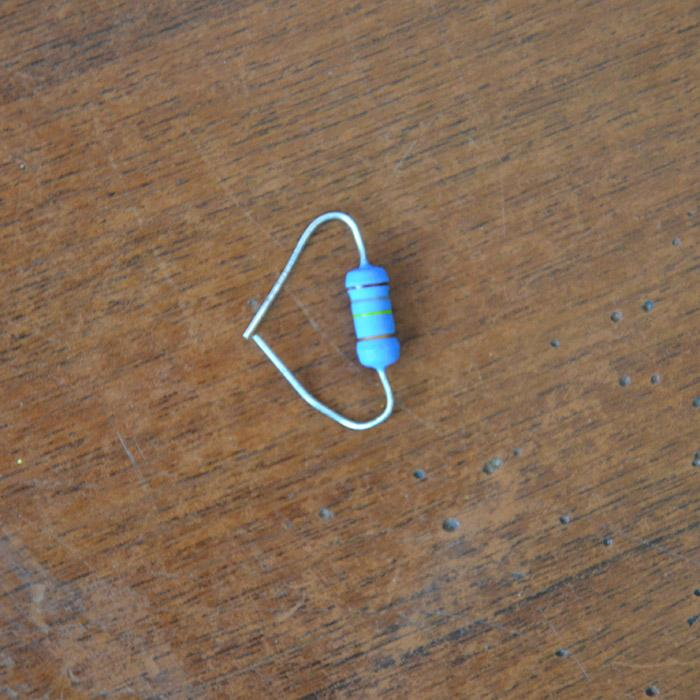resistor: (344, 262, 401, 369)
